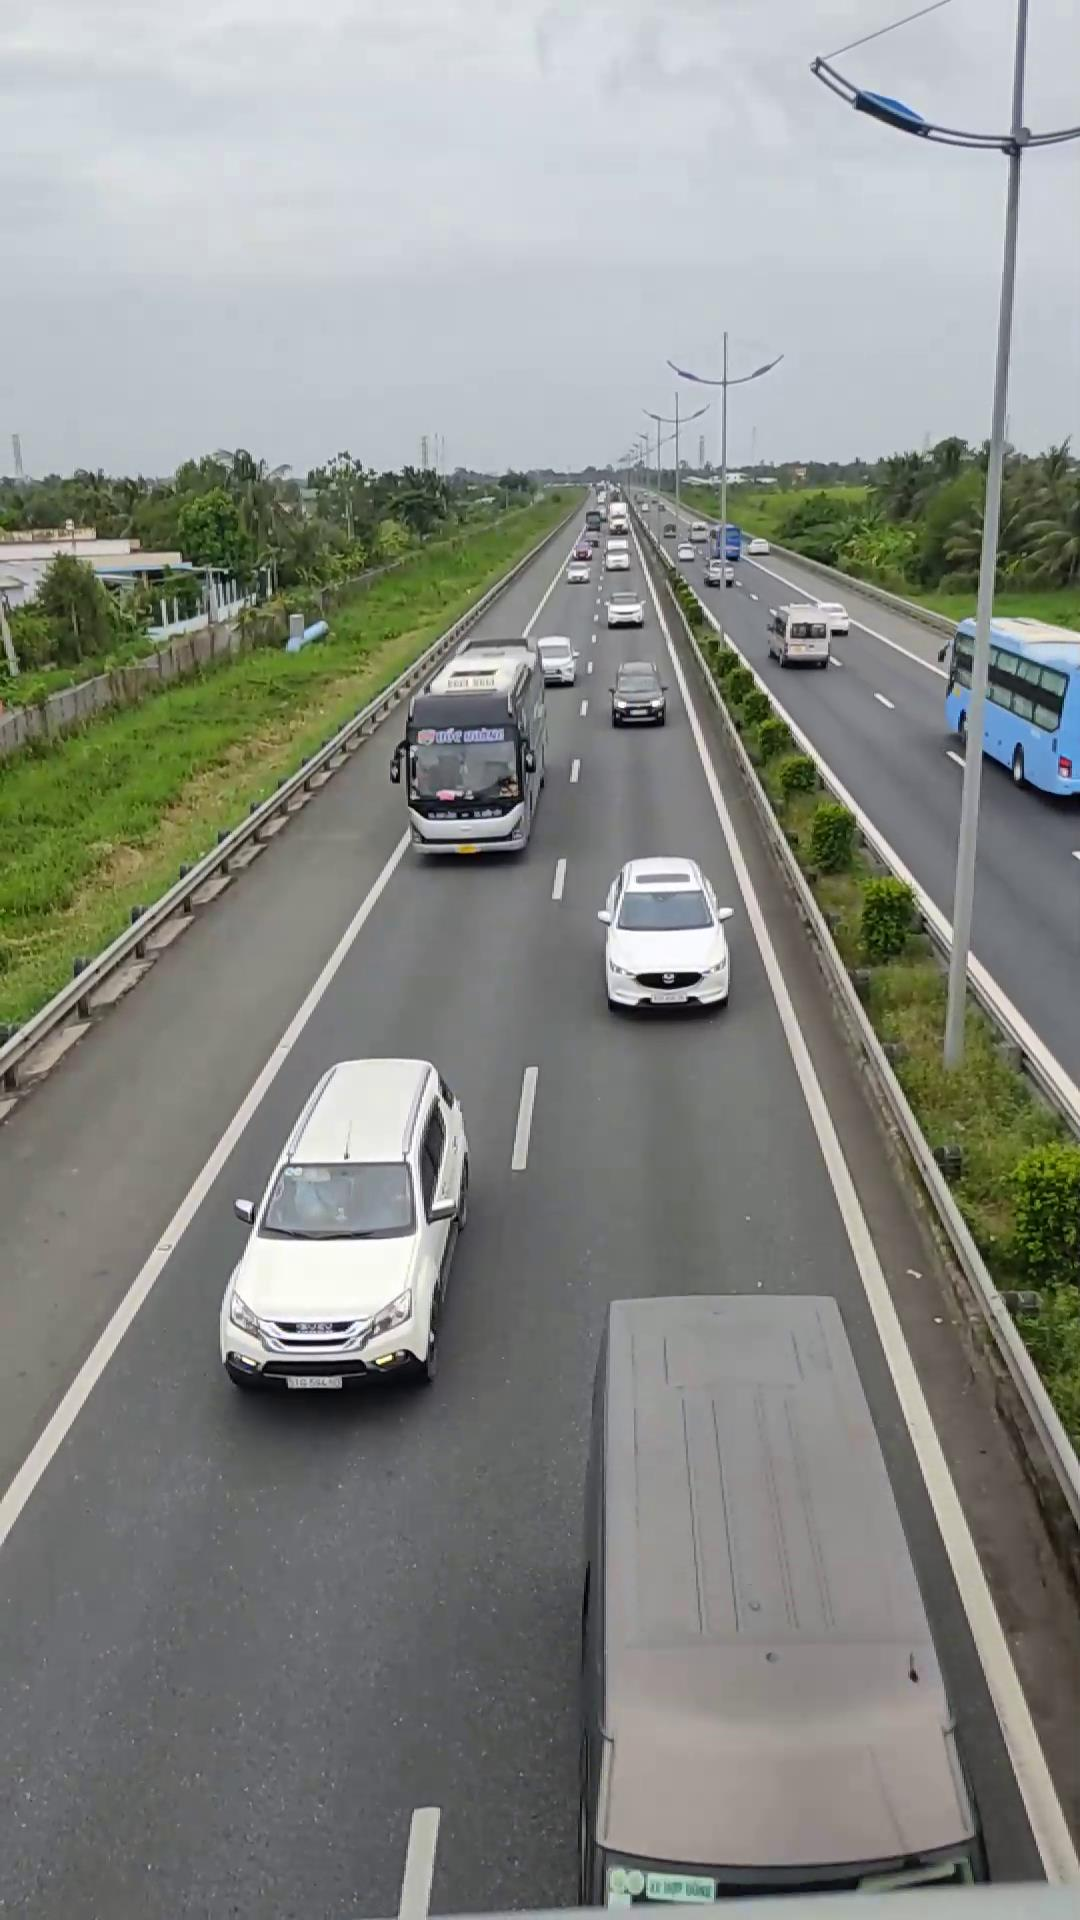bus: (398, 639, 546, 858)
car: (567, 1285, 990, 1912), (215, 1055, 471, 1392), (597, 856, 733, 1015), (607, 661, 671, 724)
